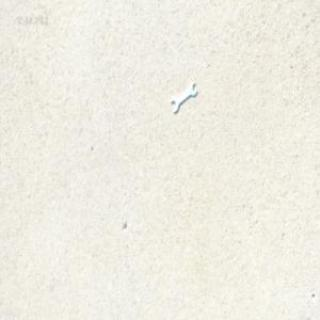Wrenchtrack_idkeyframe: (171, 82, 196, 112)
